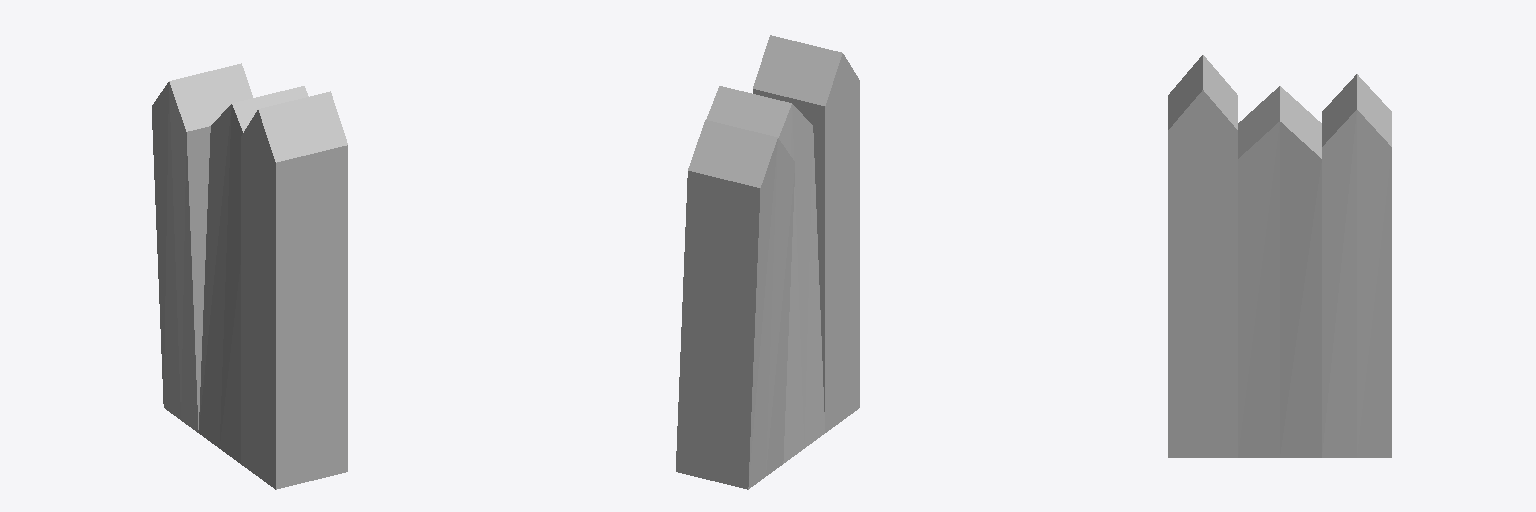
Rendered from stockade_src.obj.
The picture shows the model from 3 angles: view 1: azimuth 30°, elevation 25°; view 2: azimuth 150°, elevation 25°; view 3: azimuth 270°, elevation 25°; orthographic projection.
Visible parts, largest first — view 1: cuboid; view 2: cuboid; view 3: cuboid.
Part boxes in pixels (left/top/right/bottom): cuboid: left=152, top=63, right=347, bottom=489; cuboid: left=676, top=35, right=859, bottom=489; cuboid: left=1168, top=55, right=1391, bottom=457.
Size of the model in its own units: 0.5 by 1.81 by 1.